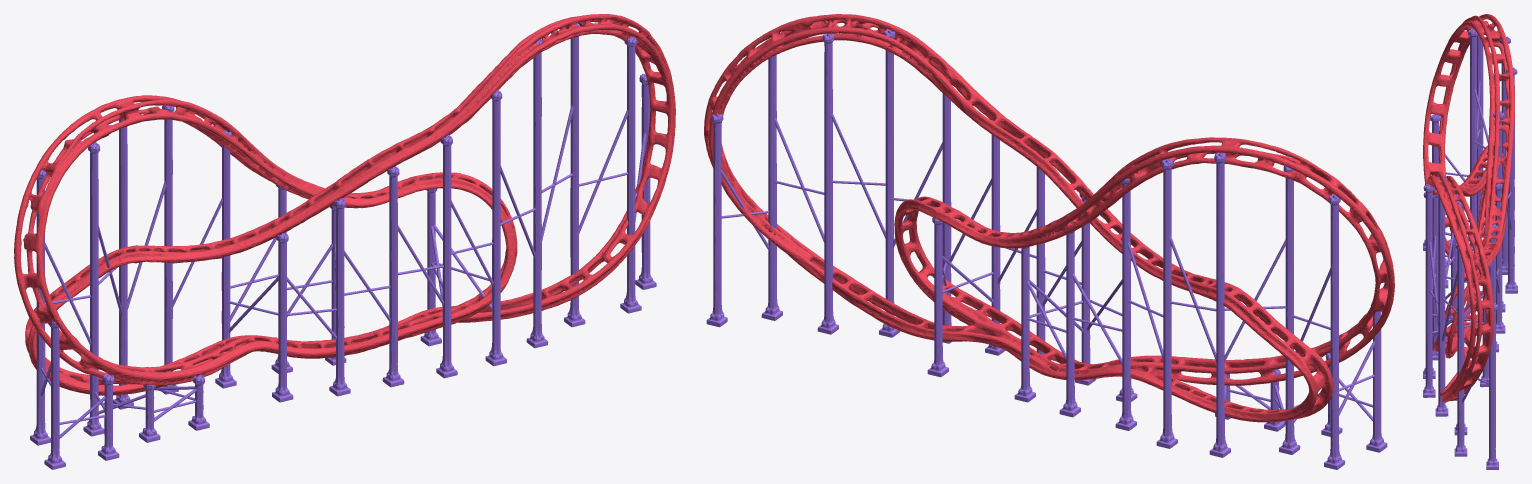
The model's file is CUR_CoasterTrack.fbx.
3 renders of one model, left to right at view 1: azimuth 30°, elevation 25°; view 2: azimuth 150°, elevation 25°; view 3: azimuth 270°, elevation 25°, orthographic. The views are drawn at different scales.
Parts seen in each view (by area): view 1: CoasterSupports, CoasterRail; view 2: CoasterRail, CoasterSupports; view 3: CoasterRail, CoasterSupports.
Part boxes in pixels (x1,y1,x2,y2): CoasterSupports: [30, 23, 656, 469]; CoasterRail: [14, 14, 675, 395]; CoasterRail: [704, 14, 1394, 422]; CoasterSupports: [706, 29, 1387, 469]; CoasterRail: [1423, 14, 1514, 402]; CoasterSupports: [1423, 28, 1517, 469].
Bounding box in the file's own units: 48 × 21.31 × 7.5.
